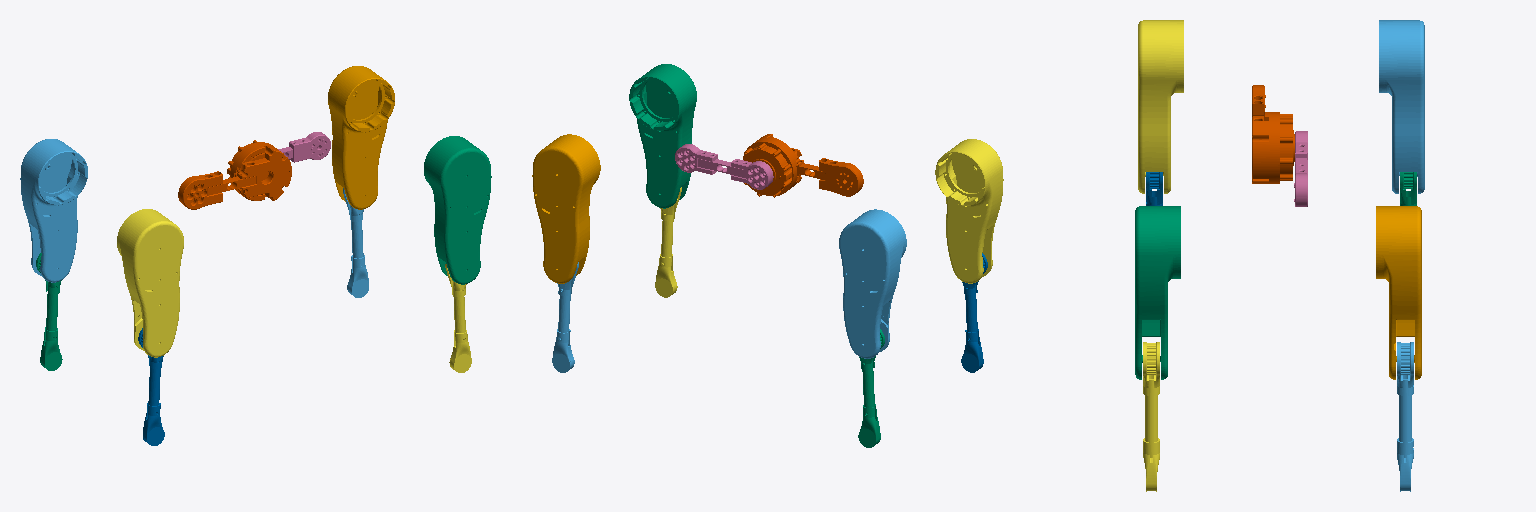
URDF robot description (spine):
<?xml version="1.0"?>
<robot name="spine">

  <!-- <link name="world"/>

  <joint name="base_fixed" type="fixed">
    <parent link="world"/>
    <child link="hind_spine"/>
    <origin xyz="0 0 0.5" rpy="0 0 0"/>
  </joint> -->
  
  
  <link name="hind_body">
    <inertial>
      <origin xyz="0 0 0" rpy="0 0 0"/>
      <mass value="2.044"/>
      <inertia ixx="0.01614" ixy="0" ixz="0" 
               iyy="0.007591" iyz="0" 
               izz="0.02169"/>
    </inertial>
    <visual>
      <origin xyz="0 0 0" rpy="0 0 0"/>
      <geometry>
        <mesh filename="meshes/simplify_hind_body.stl" scale="0.001 0.001 0.001"/>
      </geometry>
    </visual>
    <collision>
      <origin xyz="0 0 0" rpy="0 0 0"/>
      <geometry>
        <mesh filename="meshes/simplify_hind_body.stl" scale="0.001 0.001 0.001"/>
      </geometry>
    </collision>
  </link>

  <joint name="joint_hind_left_leg_upper" type="revolute">
    <parent link="hind_body"/>
    <child link="hind_left_leg_upper"/>
    <origin xyz="-0.032496964 0.137389577 -0.00028757" rpy="0 0 0"/>
    <axis xyz="0 1 0"/>
    <limit lower="-10" upper="10" effort="12" velocity="100"/>
    <dynamics damping="0.0" friction="0.0"/>
  </joint>

  <link name="hind_left_leg_upper">
    <inertial>
      <origin xyz="0.000884 0.011774 -0.058206" rpy="0 0 0"/>
      <mass value="0.252259"/>
      <inertia ixx="0.000873" ixy="0" ixz="0" 
               iyy="0.000942" iyz="0" 
               izz="0.000192"/>
    </inertial>
    <visual>
      <origin xyz="0 0 0" rpy="0 0 0"/>
      <geometry>
        <mesh filename="meshes/hind_left_leg_upper.stl" scale="0.001 0.001 0.001"/>
      </geometry>
    </visual>
    <collision>
      <origin xyz="0 0 0" rpy="0 0 0"/>
      <geometry>
        <mesh filename="meshes/hind_left_leg_upper.stl" scale="0.001 0.001 0.001"/>
      </geometry>
    </collision>
  </link>

  <joint name="joint_hind_left_leg_lower" type="revolute">
    <parent link="hind_left_leg_upper"/>
    <child link="hind_left_leg_lower"/>
    <origin xyz="0 0.012 -0.151" rpy="0 0 0"/>
    <axis xyz="0 1 0"/>
    <limit lower="-10" upper="10" effort="12" velocity="100"/>
    <dynamics damping="0.0" friction="0.0"/>
  </joint>

  <link name="hind_left_leg_lower">
    <inertial>
      <origin xyz="0.000327 0 -0.061393" rpy="0 0 0"/>
      <mass value="0.051"/>
      <inertia ixx="0.000223" ixy="0" ixz="0" 
               iyy="0.000225" iyz="0" 
               izz="0.000005078"/>
    </inertial>
    <visual>
      <origin xyz="0 0 0" rpy="0 0 0"/>
      <geometry>
        <mesh filename="meshes/hind_leg_lower.stl" scale="0.001 0.001 0.001"/>
      </geometry>
    </visual>
    <collision>
      <origin xyz="0 0 0" rpy="0 0 0"/>
      <geometry>
        <mesh filename="meshes/hind_leg_lower.stl" scale="0.001 0.001 0.001"/>
      </geometry>
    </collision>
  </link>

  <joint name="joint_hind_right_leg_upper" type="revolute">
    <parent link="hind_body"/>
    <child link="hind_right_leg_upper"/>
    <origin xyz="-0.032496964 -0.136610423 -0.00028757" rpy="0 0 0"/>
    <axis xyz="0 1 0"/>
    <limit lower="-10" upper="10" effort="12" velocity="100"/>
    <dynamics damping="0.0" friction="0.0"/>
  </joint>

  <link name="hind_right_leg_upper">
    <inertial>
      <origin xyz="0.000883 -0.011774 -0.058205" rpy="0 0 0"/>
      <mass value="0.252259"/>
      <inertia ixx="0.000873" ixy="0" ixz="0" 
               iyy="0.000942" iyz="0" 
               izz="0.000192"/>
    </inertial>
    <visual>
      <origin xyz="0 0 0" rpy="0 0 0"/>
      <geometry>
        <mesh filename="meshes/hind_right_leg_upper.stl" scale="0.001 0.001 0.001"/>
      </geometry>
    </visual>
    <collision>
      <origin xyz="0 0 0" rpy="0 0 0"/>
      <geometry>
        <mesh filename="meshes/hind_right_leg_upper.stl" scale="0.001 0.001 0.001"/>
      </geometry>
    </collision>
  </link>

  <joint name="joint_hind_right_leg_lower" type="revolute">
    <parent link="hind_right_leg_upper"/>
    <child link="hind_right_leg_lower"/>
    <origin xyz="0 -0.012 -0.151" rpy="0 0 0"/>
    <axis xyz="0 1 0"/>
    <limit lower="-10" upper="10" effort="12" velocity="100"/>
    <dynamics damping="0.0" friction="0.0"/>
  </joint>

  <link name="hind_right_leg_lower">
    <inertial>
      <origin xyz="0.000327 0 -0.061393" rpy="0 0 0"/>
      <mass value="0.051"/>
      <inertia ixx="0.000223" ixy="0" ixz="0" 
               iyy="0.000225" iyz="0" 
               izz="0.000005078"/>
    </inertial>
    <visual>
      <origin xyz="0 0 0" rpy="0 0 0"/>
      <geometry>
        <mesh filename="meshes/hind_leg_lower.stl" scale="0.001 0.001 0.001"/>
      </geometry>
    </visual>
    <collision>
      <origin xyz="0 0 0" rpy="0 0 0"/>
      <geometry>
        <mesh filename="meshes/hind_leg_lower.stl" scale="0.001 0.001 0.001"/>
      </geometry>
    </collision>
  </link>

  <joint name="joint_hind_spine" type="revolute">
    <parent link="hind_body"/>
    <child link="hind_spine"/>
    <origin xyz="0.106797362 -0.019360423 0.000984733" rpy="0 0 0"/>
    <axis xyz="0 1 0"/>
    <limit lower="-10" upper="10" effort="12" velocity="100"/>
    <dynamics damping="0.0" friction="0.0"/>
  </joint>

  <link name="hind_spine">
    <inertial>
      <origin xyz="0.109455866 0.014797864 0" rpy="0 0 0"/>
      <mass value="0.399"/>
      <inertia ixx="0.0001953" ixy="0" ixz="0" 
               iyy="0.0005357" iyz="0" 
               izz="0.0004759"/>
    </inertial>
    <visual>
      <origin xyz="0 0 0" rpy="0 0 0"/>
      <geometry>
        <mesh filename="meshes/hind_mid_spine.stl" scale="0.001 0.001 0.001"/>
      </geometry>
    </visual>
    <collision>
      <origin xyz="0 0 0" rpy="0 0 0"/>
      <geometry>
        <mesh filename="meshes/hind_mid_spine.stl" scale="0.001 0.001 0.001"/>
      </geometry>
    </collision>
  </link>

  <joint name="joint_front_spine" type="revolute">
    <parent link="hind_spine"/>
    <child link="front_spine"/>
    <origin xyz="0.1175 0.036 0" rpy="0 0 0"/>
    <axis xyz="0 1 0"/>
    <limit lower="-10" upper="10" effort="12" velocity="100"/>
    <dynamics damping="0.0" friction="0.0"/>
  </joint>

  <link name="front_spine">
    <inertial>
      <origin xyz="0.05875 0.0073 0" rpy="0 0 0"/>
      <mass value="0.052"/>
      <inertia ixx="0.0000036976" ixy="0" ixz="0" 
               iyy="0.000084358" iyz="0" 
               izz="0.000082312887603"/>
    </inertial>
    <visual>
      <origin xyz="0 0 0" rpy="0 0 0"/>
      <geometry>
        <mesh filename="meshes/front_mid_spine.stl" scale="0.001 0.001 0.001"/>
      </geometry>
    </visual>
    <collision>
      <origin xyz="0 0 0" rpy="0 0 0"/>
      <geometry>
        <mesh filename="meshes/front_mid_spine.stl" scale="0.001 0.001 0.001"/>
      </geometry>
    </collision>
  </link>

  <joint name="joint_front_body" type="revolute">
    <parent link="front_spine"/>
    <child link="front_body"/>
    <origin xyz="0.1175 0 0" rpy="0 0 0"/>
    <axis xyz="0 1 0"/>
    <limit lower="-10" upper="10" effort="12" velocity="100"/>
    <dynamics damping="0.0" friction="0.0"/>
  </joint>

  <link name="front_body">
    <inertial>
      <origin xyz="0.107249862 -0.019360422 -0.002160635" rpy="0 0 0"/>
      <mass value="2.044"/>
      <inertia ixx="0.01614" ixy="0" ixz="0" 
               iyy="0.007591" iyz="0" 
               izz="0.02169"/>
    </inertial>
    <visual>
      <origin xyz="0 0 0" rpy="0 0 0"/>
      <geometry>
        <mesh filename="meshes/front_body.stl" scale="0.001 0.001 0.001"/>
      </geometry>
    </visual>
    <collision>
      <origin xyz="0 0 0" rpy="0 0 0"/>
      <geometry>
        <mesh filename="meshes/front_body.stl" scale="0.001 0.001 0.001"/>
      </geometry>
    </collision>
  </link>

  <joint name="joint_front_left_leg_upper" type="revolute">
    <parent link="front_body"/>
    <child link="front_left_leg_upper"/>
    <origin xyz="0.139742934 0.11725 -0.00245609" rpy="0 0 0"/>
    <axis xyz="0 1 0"/>
    <limit lower="-10" upper="10" effort="12" velocity="100"/>
    <dynamics damping="0.0" friction="0.0"/>
  </joint>

  <link name="front_left_leg_upper">
    <inertial>
      <origin xyz="-0.000883 0.011774 -0.058205" rpy="0 0 0"/>
      <mass value="0.252259"/>
      <inertia ixx="0.000873" ixy="0" ixz="0" 
               iyy="0.000942" iyz="0" 
               izz="0.000192"/>
    </inertial>
    <visual>
      <origin xyz="0 0 0" rpy="0 0 0"/>
      <geometry>
        <mesh filename="meshes/front_left_leg_upper.stl" scale="0.001 0.001 0.001"/>
      </geometry>
    </visual>
    <collision>
      <origin xyz="0 0 0" rpy="0 0 0"/>
      <geometry>
        <mesh filename="meshes/front_left_leg_upper.stl" scale="0.001 0.001 0.001"/>
      </geometry>
    </collision>
  </link>

  <joint name="joint_front_left_leg_lower" type="revolute">
    <parent link="front_left_leg_upper"/>
    <child link="front_left_leg_lower"/>
    <origin xyz="0 0.012 -0.151" rpy="0 0 0"/>
    <axis xyz="0 1 0"/>
    <limit lower="-10" upper="10" effort="12" velocity="100"/>
    <dynamics damping="0.0" friction="0.0"/>
  </joint>

  <link name="front_left_leg_lower">
    <inertial>
      <origin xyz="-0.000327 0 -0.061393" rpy="0 0 0"/>
      <mass value="0.051"/>
      <inertia ixx="0.000223" ixy="0" ixz="0" 
               iyy="0.000225" iyz="0" 
               izz="0.000005078"/>
    </inertial>
    <visual>
      <origin xyz="0 0 0" rpy="0 0 0"/>
      <geometry>
        <mesh filename="meshes/front_leg_lower.stl" scale="0.001 0.001 0.001"/>
      </geometry>
    </visual>
    <collision>
      <origin xyz="0 0 0" rpy="0 0 0"/>
      <geometry>
        <mesh filename="meshes/front_leg_lower.stl" scale="0.001 0.001 0.001"/>
      </geometry>
    </collision>
  </link>

  <joint name="joint_front_right_leg_upper" type="revolute">
    <parent link="front_body"/>
    <child link="front_right_leg_upper"/>
    <origin xyz="0.139742934 -0.15675 -0.002456609" rpy="0 0 0"/>
    <axis xyz="0 1 0"/>
    <limit lower="-10" upper="10" effort="12" velocity="100"/>
    <dynamics damping="0.0" friction="0.0"/>
  </joint>

  <link name="front_right_leg_upper">
    <inertial>
      <origin xyz="-0.000884 -0.011774 -0.058206" rpy="0 0 0"/>
      <mass value="0.252259"/>
      <inertia ixx="0.000873" ixy="0" ixz="0" 
               iyy="0.000942" iyz="0" 
               izz="0.000192"/>
    </inertial>
    <visual>
      <origin xyz="0 0 0" rpy="0 0 0"/>
      <geometry>
        <mesh filename="meshes/front_right_leg_upper.stl" scale="0.001 0.001 0.001"/>
      </geometry>
    </visual>
    <collision>
      <origin xyz="0 0 0" rpy="0 0 0"/>
      <geometry>
        <mesh filename="meshes/front_right_leg_upper.stl" scale="0.001 0.001 0.001"/>
      </geometry>
    </collision>
  </link>

  <joint name="joint_front_right_leg_lower" type="revolute">
    <parent link="front_right_leg_upper"/>
    <child link="front_right_leg_lower"/>
    <origin xyz="0 -0.012 -0.151" rpy="0 0 0"/>
    <axis xyz="0 1 0"/>
    <limit lower="-10" upper="10" effort="12" velocity="100"/>
    <dynamics damping="0.0" friction="0.0"/>
  </joint>

  <link name="front_right_leg_lower">
    <inertial>
      <origin xyz="-0.000327 0 -0.061393" rpy="0 0 0"/>
      <mass value="0.051"/>
      <inertia ixx="0.000223" ixy="0" ixz="0" 
               iyy="0.000225" iyz="0" 
               izz="0.000005078"/>
    </inertial>
    <visual>
      <origin xyz="0 0 0" rpy="0 0 0"/>
      <geometry>
        <mesh filename="meshes/front_leg_lower.stl" scale="0.001 0.001 0.001"/>
      </geometry>
    </visual>
    <collision>
      <origin xyz="0 0 0" rpy="0 0 0"/>
      <geometry>
        <mesh filename="meshes/front_leg_lower.stl" scale="0.001 0.001 0.001"/>
      </geometry>
    </collision>
  </link>

</robot>

--- Facts derived from the render (not from the file) ---
The picture shows the robot from 3 angles, left to right: view 1: azimuth 30°, elevation 25°; view 2: azimuth 150°, elevation 25°; view 3: azimuth 270°, elevation 25°; orthographic projection.
Robot: spine — 12 links, 11 joints (11 revolute); root link hind_body; default pose: all joints at 0.
Visible links, largest first — view 1: front_right_leg_upper, hind_right_leg_upper, hind_left_leg_upper, front_left_leg_upper, hind_spine, hind_left_leg_lower, front_right_leg_lower, hind_right_leg_lower, front_left_leg_lower, front_spine; view 2: front_left_leg_upper, hind_left_leg_upper, hind_right_leg_upper, front_right_leg_upper, hind_spine, front_spine, hind_left_leg_lower, hind_right_leg_lower, front_right_leg_lower, front_left_leg_lower; view 3: hind_right_leg_upper, hind_left_leg_upper, front_left_leg_upper, front_right_leg_upper, hind_spine, front_right_leg_lower, front_left_leg_lower, front_spine, hind_left_leg_lower, hind_right_leg_lower.
Link boxes in pixels (x1,y1,x2,y2): front_right_leg_upper: [424, 136, 491, 284]; hind_right_leg_upper: [117, 209, 183, 357]; hind_left_leg_upper: [20, 139, 87, 282]; front_left_leg_upper: [328, 66, 394, 209]; hind_spine: [178, 140, 291, 209]; hind_left_leg_lower: [36, 253, 62, 370]; front_right_leg_lower: [445, 264, 471, 372]; hind_right_leg_lower: [138, 328, 164, 445]; front_left_leg_lower: [343, 188, 368, 297]; front_spine: [278, 132, 330, 162]; front_left_leg_upper: [532, 134, 600, 283]; hind_left_leg_upper: [839, 209, 906, 358]; hind_right_leg_upper: [935, 139, 1003, 283]; front_right_leg_upper: [629, 64, 696, 208]; hind_spine: [743, 134, 863, 197]; front_spine: [675, 144, 773, 189]; hind_left_leg_lower: [858, 329, 884, 447]; hind_right_leg_lower: [961, 253, 987, 372]; front_right_leg_lower: [655, 187, 681, 297]; front_left_leg_lower: [552, 262, 578, 372]; hind_right_leg_upper: [1138, 20, 1183, 193]; hind_left_leg_upper: [1379, 20, 1424, 193]; front_left_leg_upper: [1376, 206, 1421, 379]; front_right_leg_upper: [1135, 206, 1180, 379]; hind_spine: [1252, 85, 1294, 183]; front_right_leg_lower: [1143, 342, 1159, 491]; front_left_leg_lower: [1397, 342, 1413, 491]; front_spine: [1294, 131, 1307, 206]; hind_left_leg_lower: [1400, 172, 1416, 205]; hind_right_leg_lower: [1146, 172, 1162, 205].
Size in the robot's own frame: 0.6002 by 0.3395 by 0.3661 metres.
10 mesh visuals loaded from 10 distinct referenced files (8 binary STL); not drawn: 2 (reference not matched to a file when rendering).